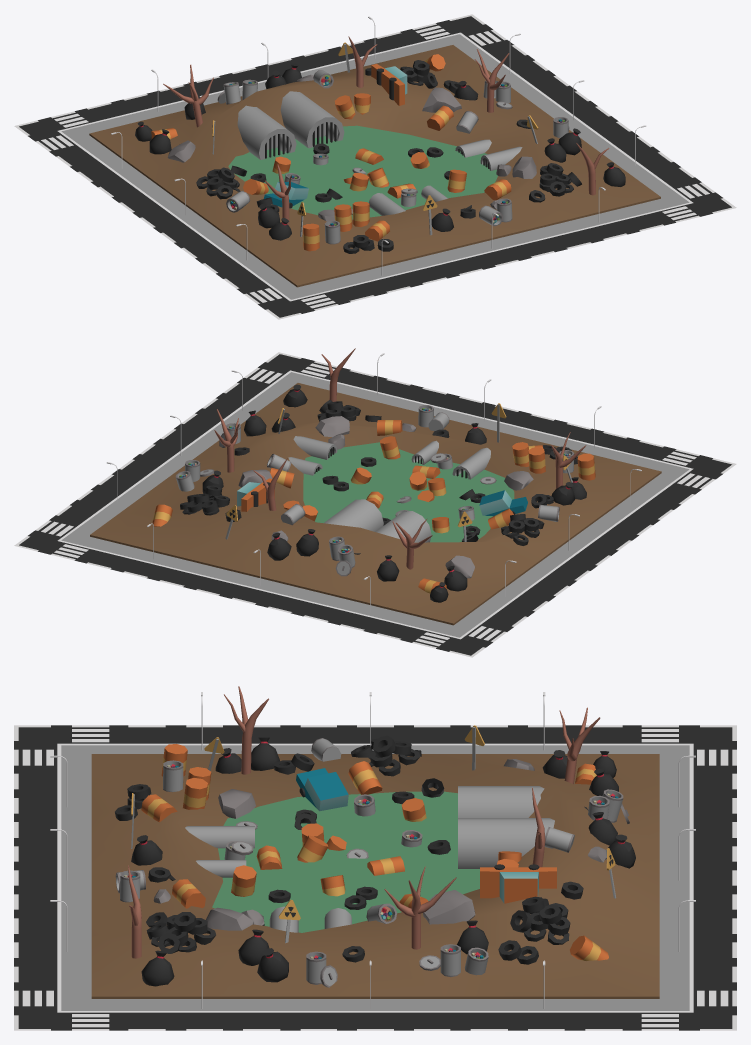
Rendered from GarbageDumpArea_Upgrade.fbx.
The picture shows the model from 3 angles, top to bottom: view 1: azimuth 30°, elevation 25°; view 2: azimuth 150°, elevation 25°; view 3: azimuth 270°, elevation 25°; orthographic projection. The views are drawn at different scales.
Visible parts, largest first — view 1: GarbageDumpArea_Upgrade; view 2: GarbageDumpArea_Upgrade; view 3: GarbageDumpArea_Upgrade.
Part boxes in pixels (x1,y1,x2,y2): GarbageDumpArea_Upgrade: [14, 14, 736, 319]; GarbageDumpArea_Upgrade: [14, 348, 736, 657]; GarbageDumpArea_Upgrade: [14, 686, 736, 1030].
Bounding box in the file's own units: 1000 × 200 × 1000.
Materials: 1 (1 with a texture image).
